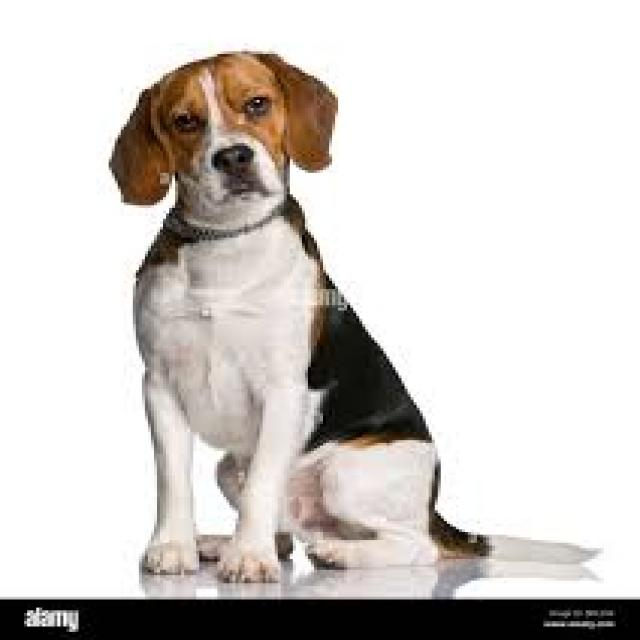Dog: (105, 43, 605, 590)
